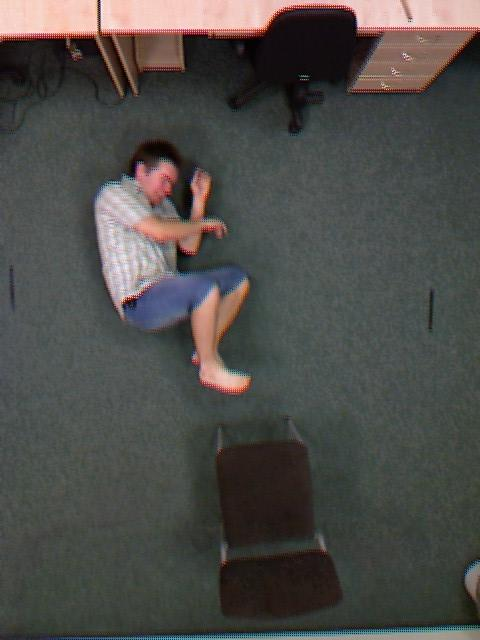fall: (78, 151, 272, 381)
